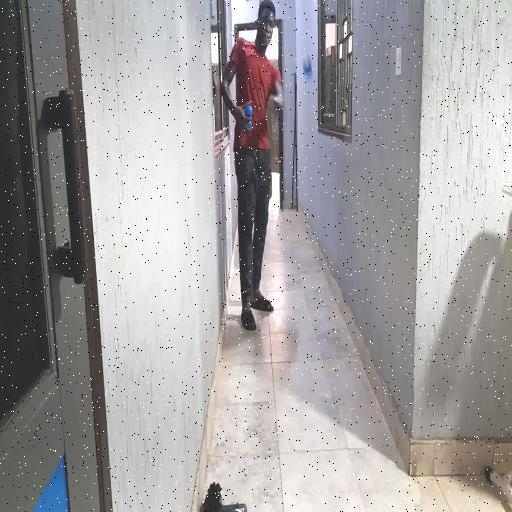plastic-ball: (300, 50, 312, 84)
